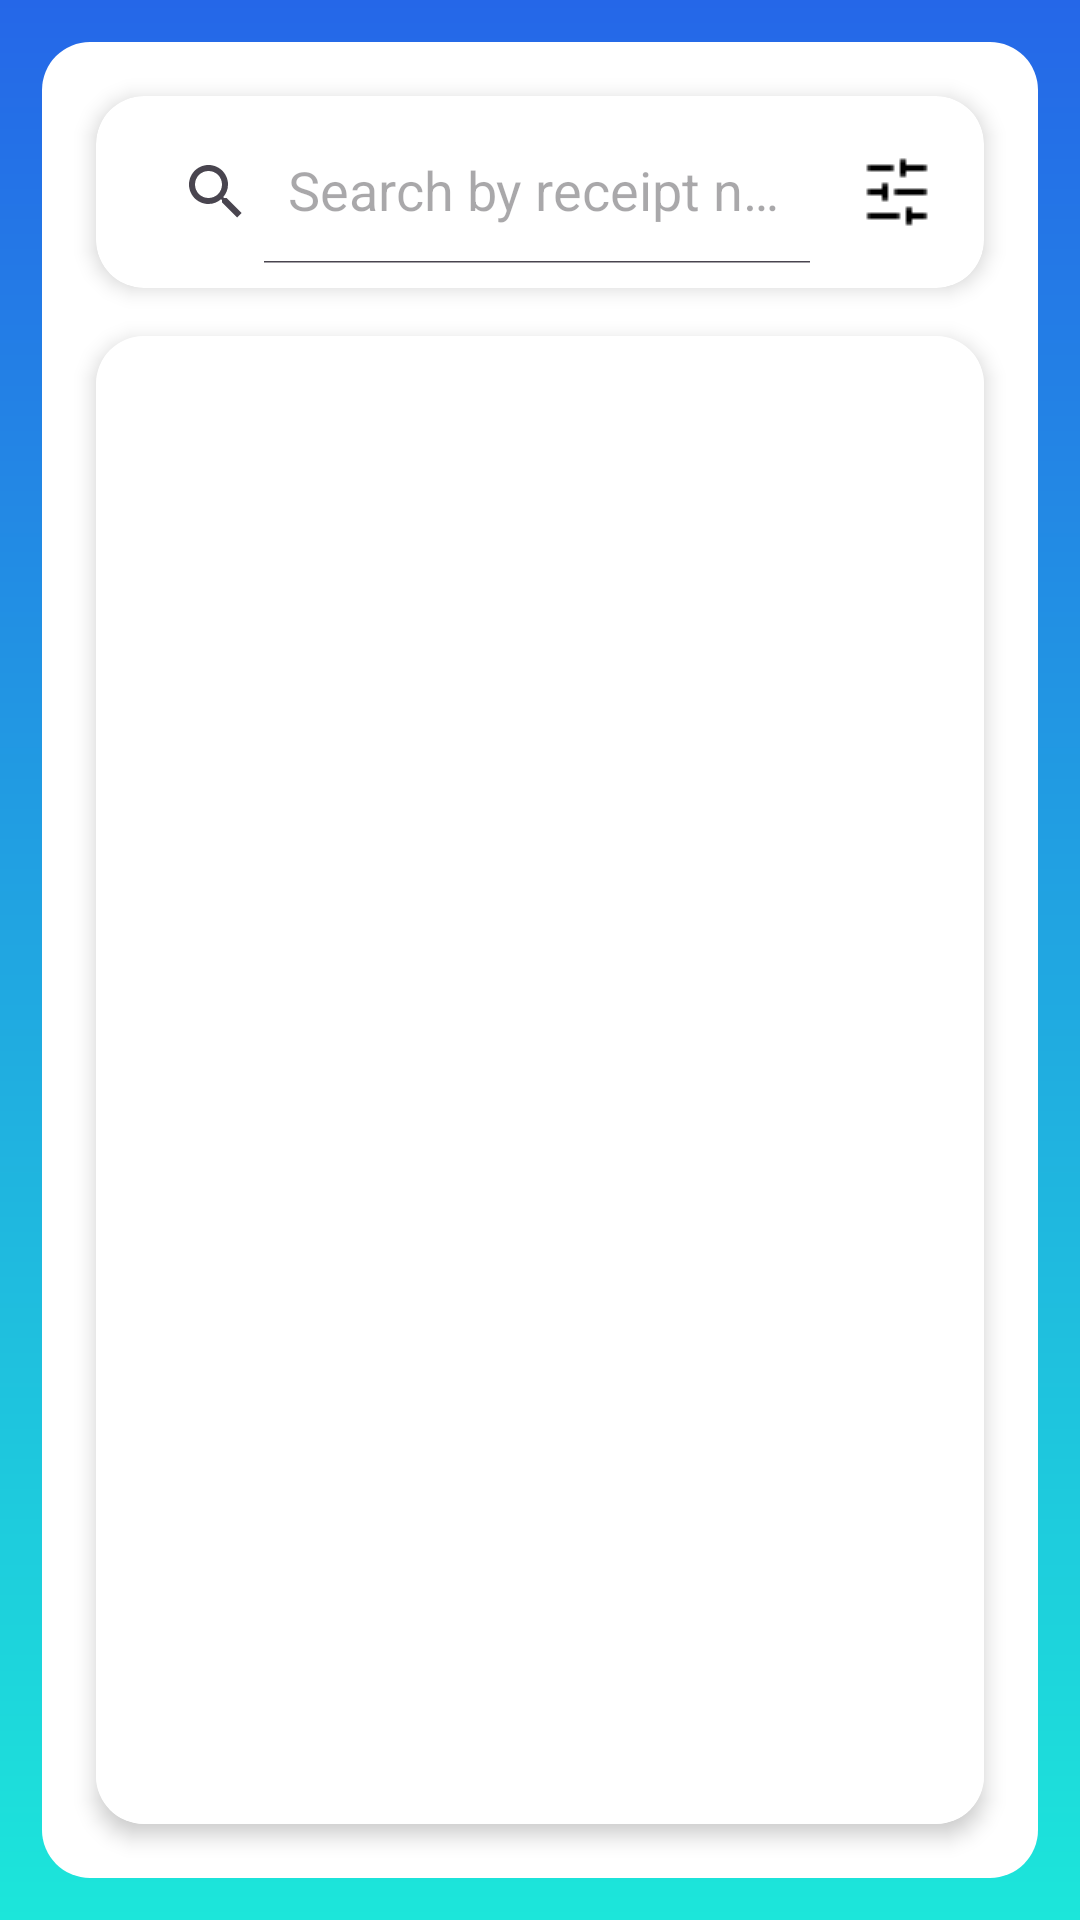

Icons on this 1080x1920 Android screen, each with the point to tap as point (x, y):
Filter: point (897, 192)
